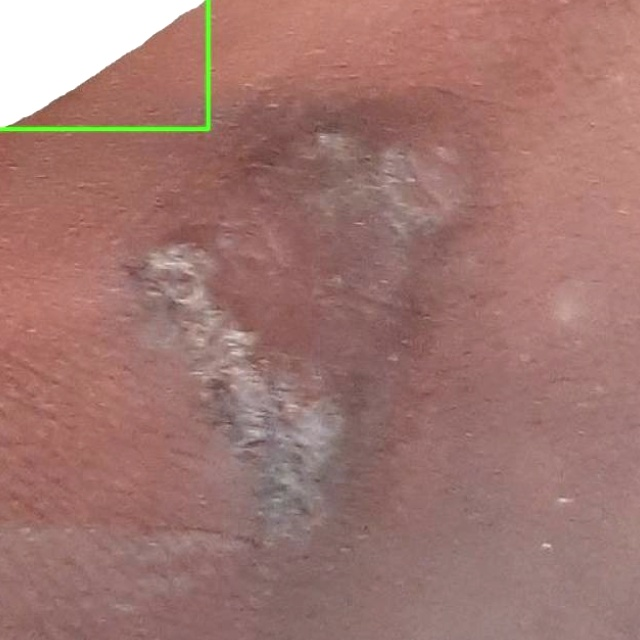Contact Dermatitis: (0, 0, 208, 128)
